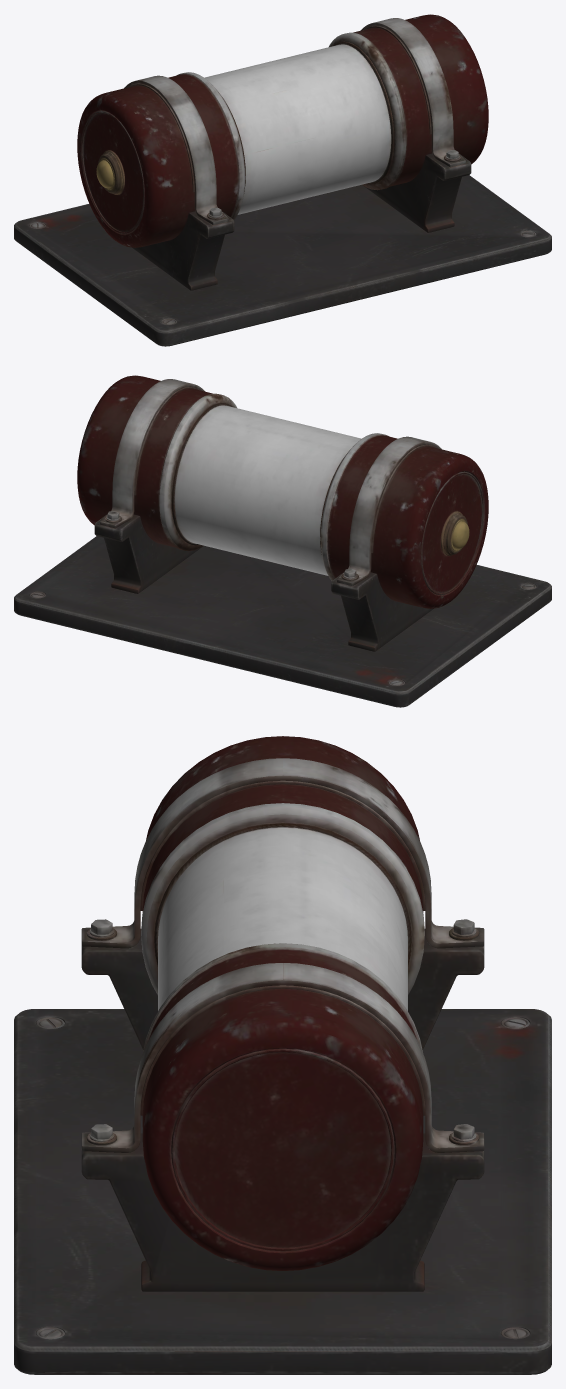
The model's file is innesco.glb.
3 views of the same model, one above another, from view 1: azimuth 30°, elevation 25°; view 2: azimuth 150°, elevation 25°; view 3: azimuth 270°, elevation 25° (orthographic). The views are drawn at different scales.
Parts seen in each view (by area): view 1: Black steel mounting plate, Sight_Glass, Right / Enamelled drawn end cup, Left / Enamelled drawn end cup, Right / Machined cradle casting, Left / Machined cradle casting, Left / Formed steel saddle strap, Right / Formed steel saddle strap, Left / Rolled socket collar, Right / Rolled socket collar, Left / Glass compression gasket, Right / End face rolled reveal (+1 smaller); view 2: Black steel mounting plate, Sight_Glass, Right / Enamelled drawn end cup, Left / Enamelled drawn end cup, Right / Machined cradle casting, Left / Machined cradle casting, Left / Formed steel saddle strap, Right / Formed steel saddle strap, Left / Rolled socket collar, Right / Rolled socket collar, Left / Glass compression gasket, Right / End face rolled reveal (+1 smaller); view 3: Black steel mounting plate, Left / Enamelled drawn end cup, Sight_Glass, Left / Machined cradle casting, Right / Enamelled drawn end cup, Right / Formed steel saddle strap, Left / Formed steel saddle strap, Right / Rolled socket collar, Right / Machined cradle casting, Left / End face rolled reveal, Right / Glass compression gasket, Left / Rolled socket collar (+2 smaller).
Part boxes in pixels (x1,y1,x2,y2): Black steel mounting plate: [14, 175, 551, 346]; Sight_Glass: [204, 44, 391, 214]; Right / Enamelled drawn end cup: [77, 74, 238, 247]; Left / Enamelled drawn end cup: [353, 14, 488, 186]; Right / Machined cradle casting: [132, 211, 234, 290]; Left / Machined cradle casting: [364, 153, 471, 232]; Left / Formed steel saddle strap: [361, 18, 465, 167]; Right / Formed steel saddle strap: [124, 75, 228, 224]; Left / Rolled socket collar: [329, 32, 406, 190]; Right / Rolled socket collar: [176, 72, 245, 219]; Left / Glass compression gasket: [333, 41, 394, 184]; Right / End face rolled reveal: [81, 110, 144, 234]; Black steel mounting plate: [14, 536, 551, 707]; Sight_Glass: [174, 405, 361, 575]; Right / Enamelled drawn end cup: [327, 435, 488, 608]; Left / Enamelled drawn end cup: [77, 375, 212, 547]; Right / Machined cradle casting: [331, 572, 433, 651]; Left / Machined cradle casting: [94, 514, 201, 593]; Left / Formed steel saddle strap: [100, 379, 204, 528]; Right / Formed steel saddle strap: [337, 436, 441, 585]; Left / Rolled socket collar: [159, 393, 236, 551]; Right / Rolled socket collar: [320, 433, 389, 580]; Left / Glass compression gasket: [171, 402, 232, 545]; Right / End face rolled reveal: [421, 471, 484, 595]; Black steel mounting plate: [14, 1009, 551, 1374]; Left / Enamelled drawn end cup: [142, 949, 423, 1270]; Sight_Glass: [158, 827, 407, 1010]; Left / Machined cradle casting: [81, 1133, 484, 1291]; Right / Enamelled drawn end cup: [142, 736, 423, 912]; Right / Formed steel saddle strap: [81, 758, 484, 948]; Left / Formed steel saddle strap: [81, 963, 484, 1152]; Right / Rolled socket collar: [141, 803, 424, 994]; Right / Machined cradle casting: [81, 929, 484, 1049]; Left / End face rolled reveal: [171, 1048, 394, 1251]; Right / Glass compression gasket: [154, 822, 411, 966]; Left / Rolled socket collar: [143, 943, 422, 1052].
Size of the model in its own units: 2 by 0.9348 by 1.33.
1 material, 1 textured.
